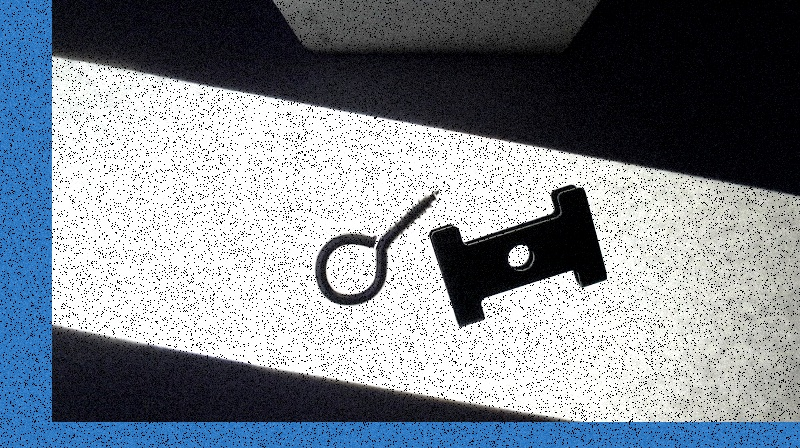O001: (314, 187, 445, 306)
O002: (430, 181, 609, 327)
